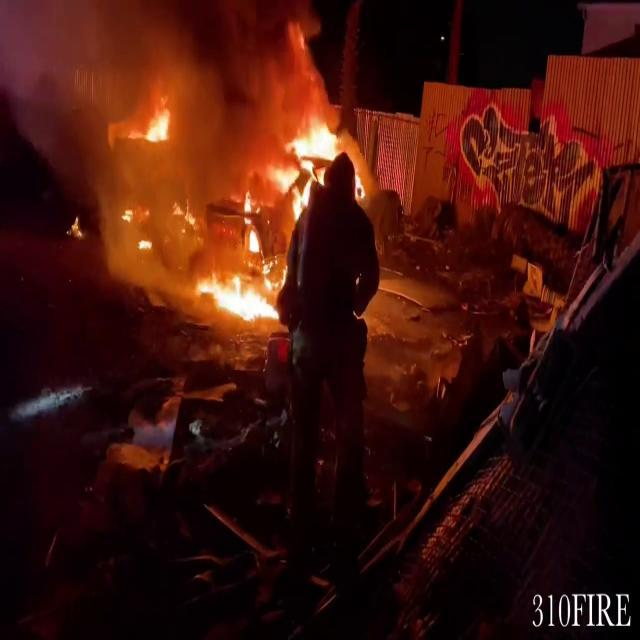Fire: (264, 118, 342, 210), (196, 252, 286, 330), (137, 96, 177, 148)
Smoke: (0, 0, 313, 157)
